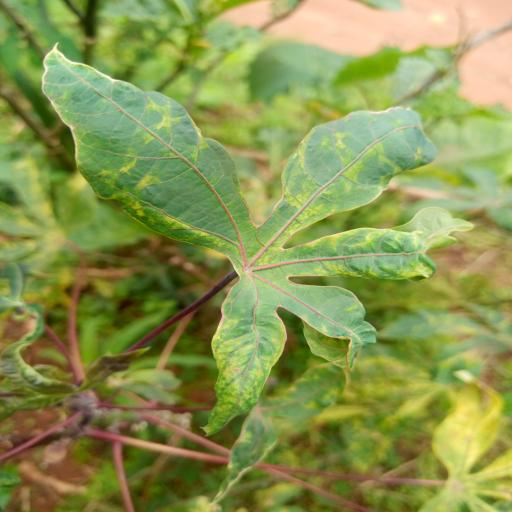Cassava_Mosaic: (36, 42, 444, 431)
